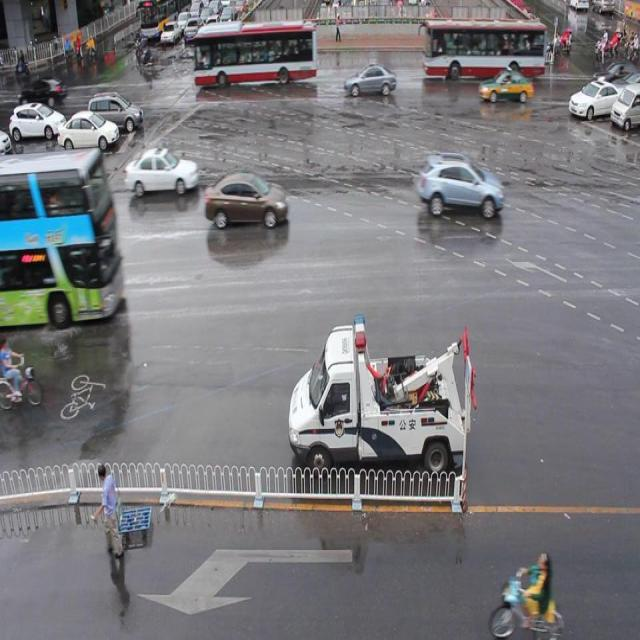car: (415, 150, 502, 216), (204, 171, 288, 227), (124, 148, 198, 195), (566, 78, 623, 118), (478, 68, 532, 104), (344, 65, 397, 99)
van: (1, 153, 125, 326), (192, 19, 315, 86), (420, 17, 544, 81)
